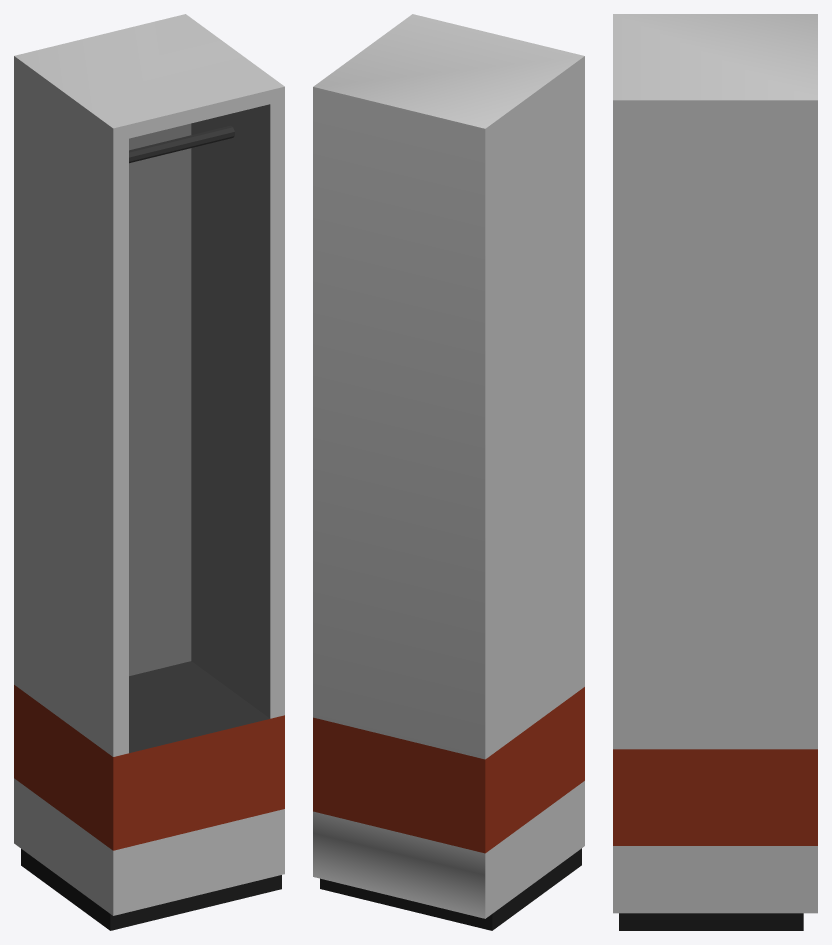
File: drawer-2.glb
3 renders of one model, left to right at view 1: azimuth 30°, elevation 25°; view 2: azimuth 150°, elevation 25°; view 3: azimuth 270°, elevation 25°, orthographic. The views are drawn at different scales.
Visible parts, largest first — view 1: Drawer_2; view 2: Drawer_2; view 3: Drawer_2.
Boxes of the visible parts, x1,y1,x2,y2 form: Drawer_2: (14,14,284,930); Drawer_2: (313,14,584,930); Drawer_2: (613,14,817,930).
Bounding box in the file's own units: 40.61 × 182 × 40.63.
Materials: 1 (1 with a texture image).
